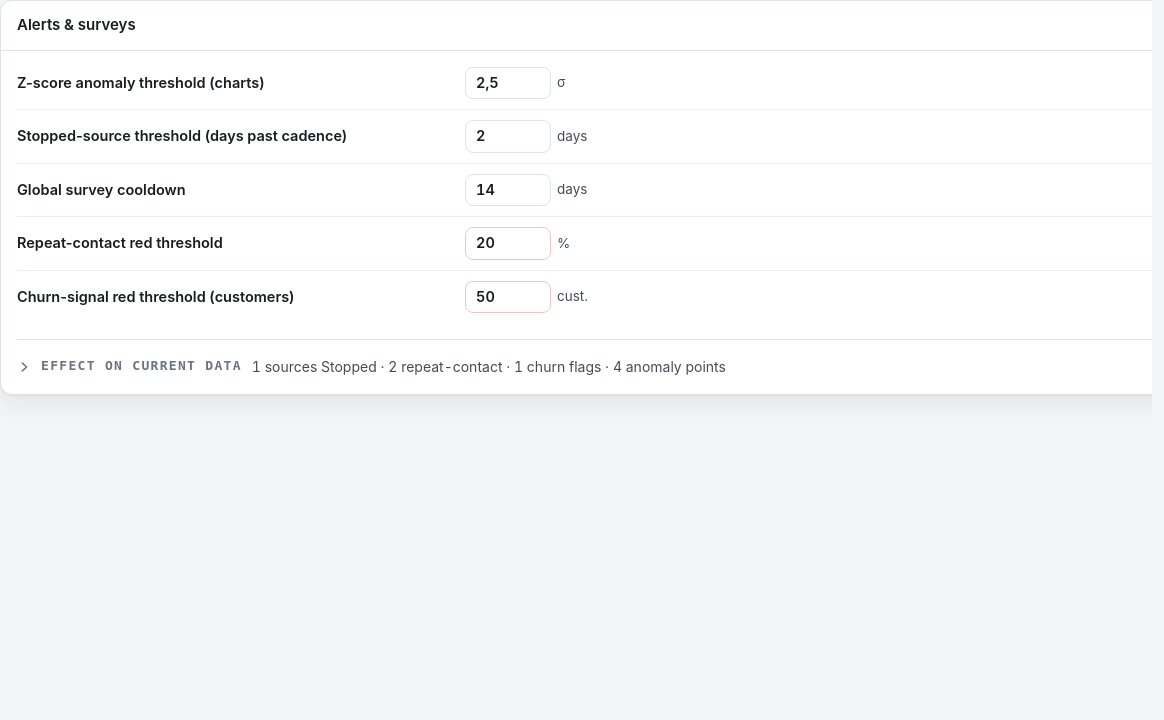
Scenario: AlertGroup — các ngưỡng cảnh báo + áp ngay lúc này › đổi data.deadDays qua ô nhập ⇒ câu 'bao nhiêu nguồn bị coi là Ngừng gửi' đổi theo
Click the button with test id "apply-toggle" at (584, 367), box 17,356 -> 1152,378
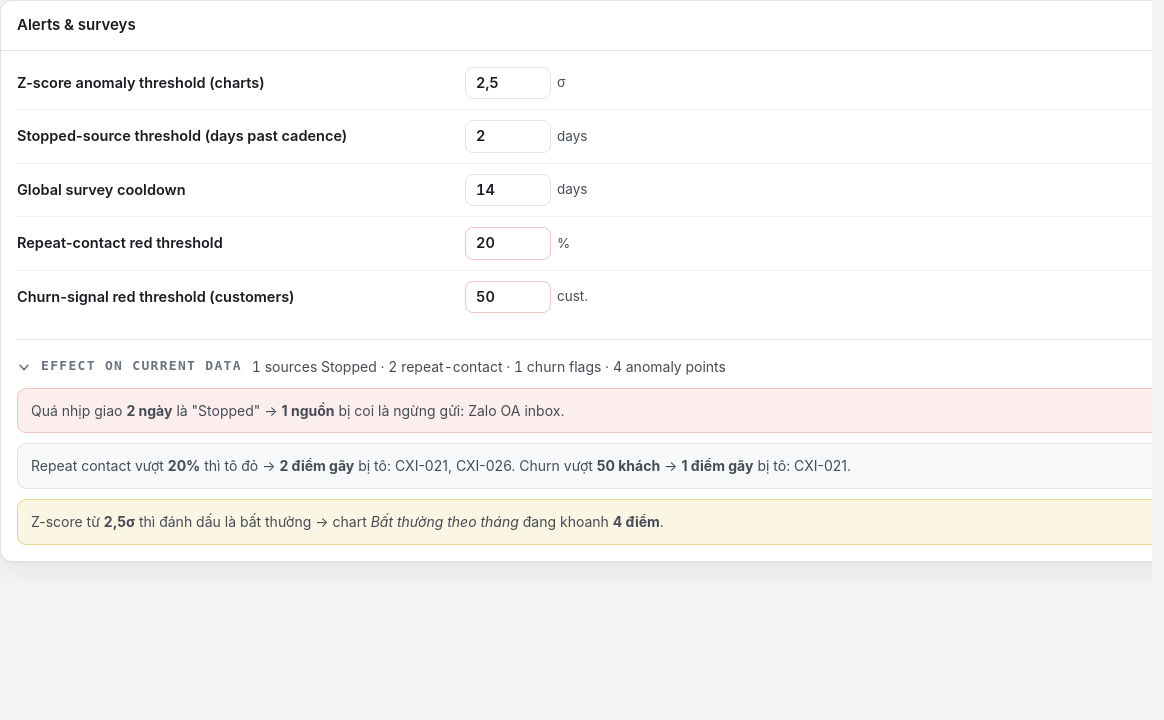
Replace the text in the field named "Stopped-source threshold (days past cadence)" with "30" at (508, 136), box 465,120 -> 551,153
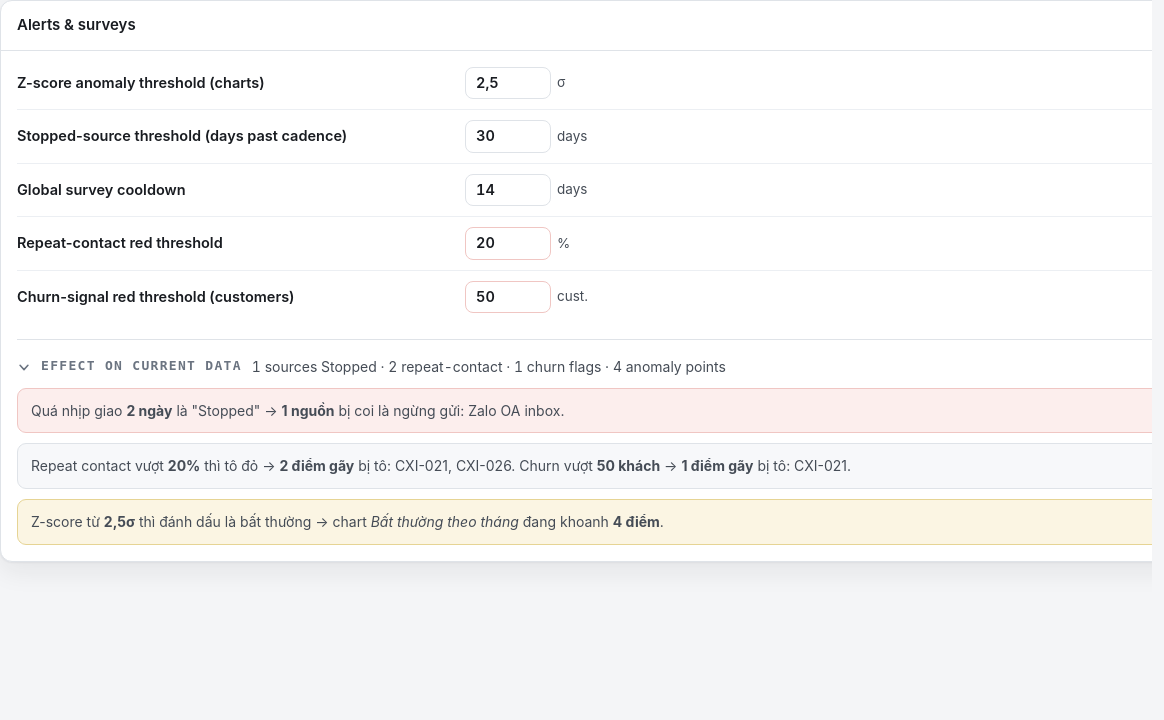
Leave the field named "Stopped-source threshold (days past cadence)", box 465,120 -> 551,153
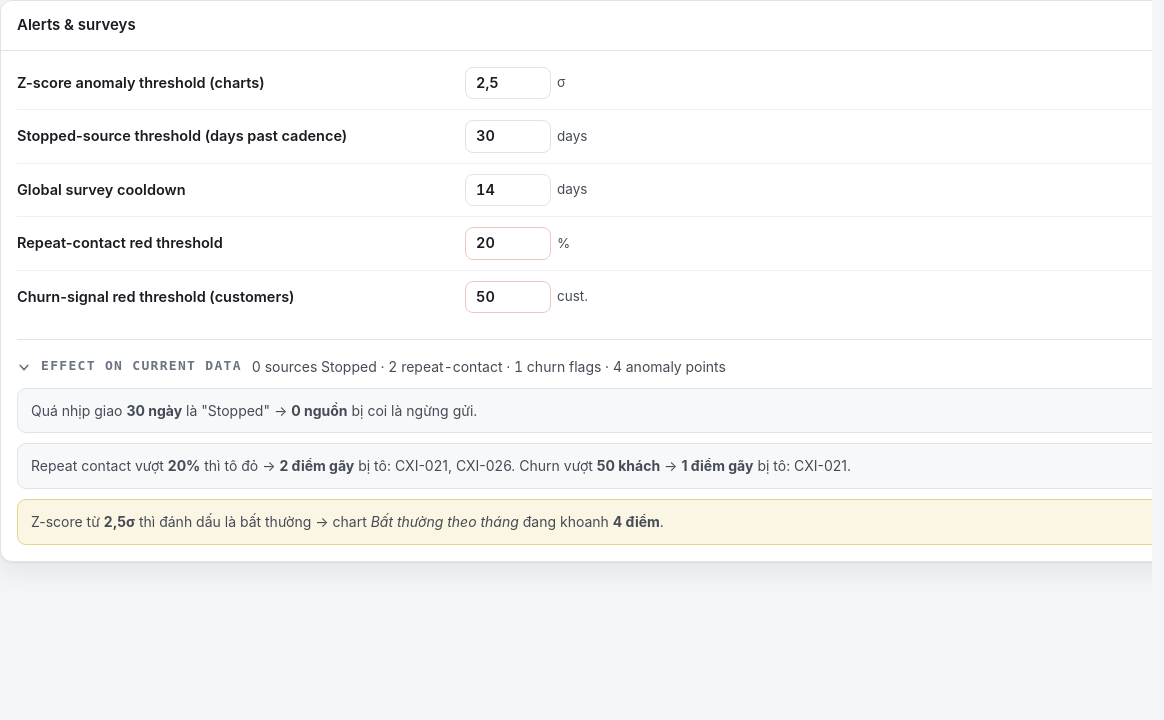
Result: the text "0 nguồn" is shown at 291,402 -> 348,419
